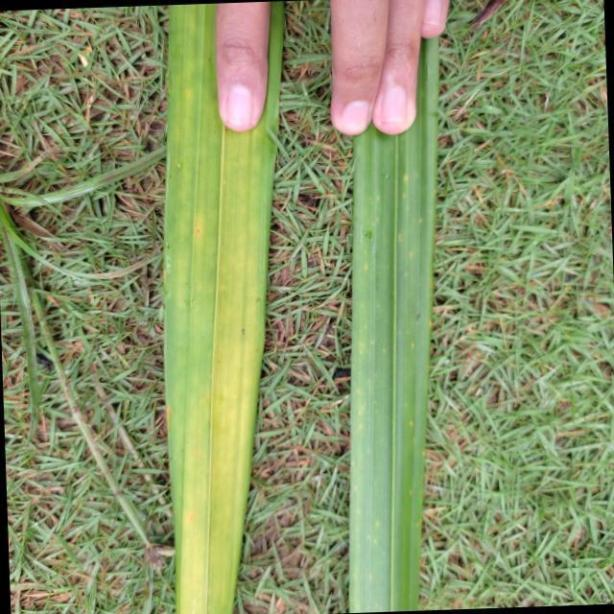nitrogen: (163, 0, 282, 614)
